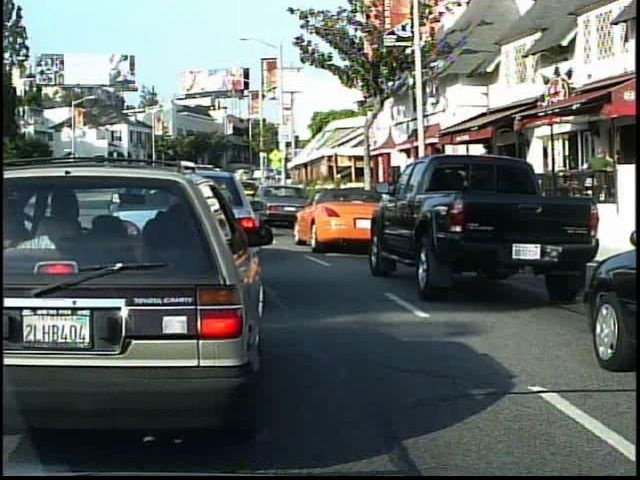person: (582, 142, 616, 225)
